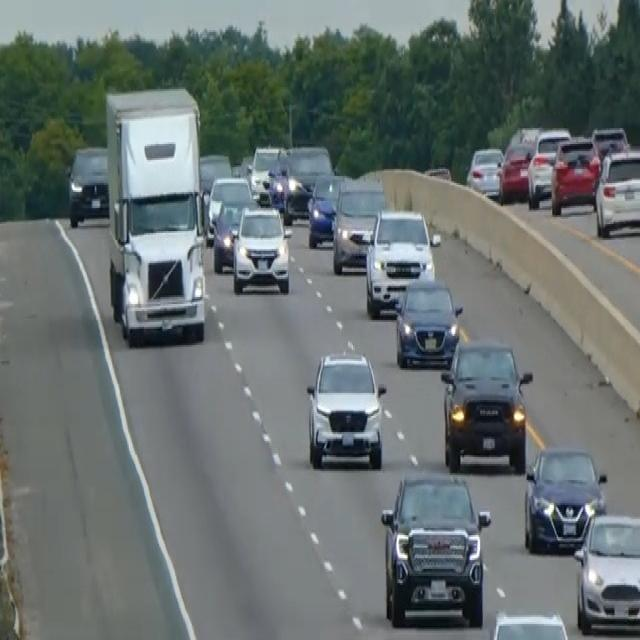car: (439, 334, 532, 473), (304, 347, 387, 469), (523, 441, 606, 553), (359, 206, 439, 316), (572, 508, 639, 634), (393, 274, 463, 368), (231, 203, 291, 295), (331, 176, 386, 274), (550, 133, 600, 215), (594, 146, 639, 236), (283, 142, 333, 219), (526, 126, 570, 208), (67, 142, 109, 226), (306, 169, 350, 247), (206, 172, 253, 244), (485, 608, 572, 638), (497, 140, 534, 201), (465, 144, 504, 199), (248, 142, 285, 199), (198, 149, 232, 208), (590, 123, 629, 160)
jeep: (379, 468, 491, 628)
lorry: (103, 84, 208, 346)
